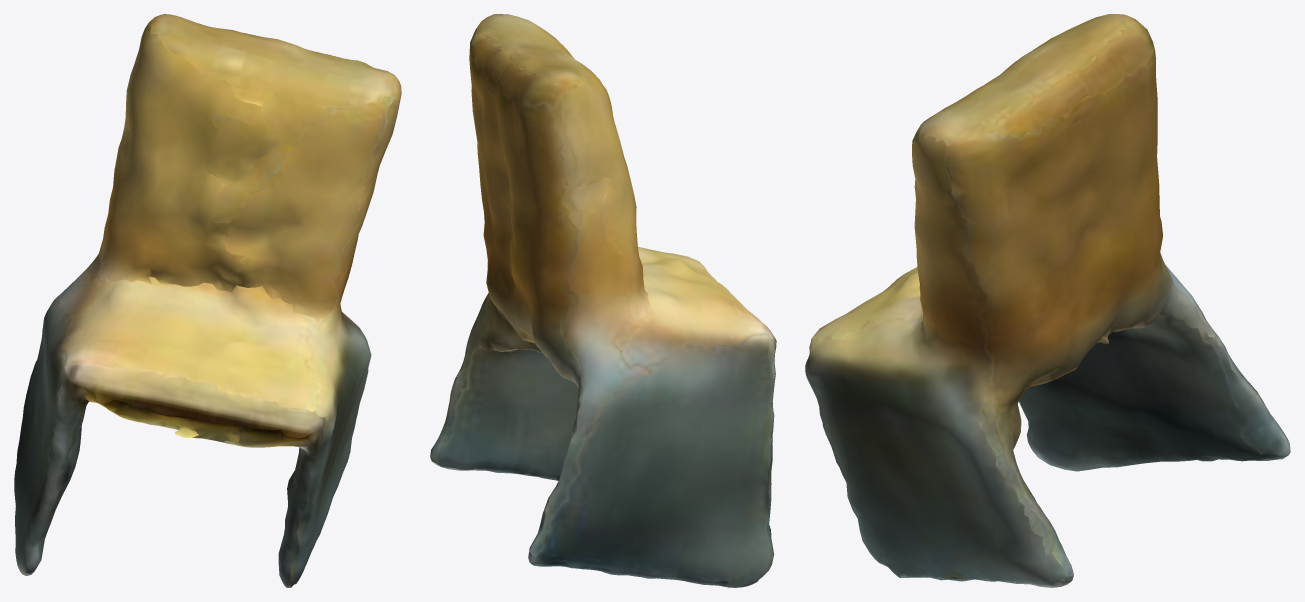
The model's file is 25_chair.glb.
3 renders of one model, left to right at view 1: azimuth 30°, elevation 25°; view 2: azimuth 150°, elevation 25°; view 3: azimuth 270°, elevation 25°, orthographic. The views are drawn at different scales.
Parts seen in each view (by area): view 1: 25_chair; view 2: 25_chair; view 3: 25_chair.
Boxes of the visible parts, <box> form: 25_chair: <box>14,14,401,587</box>; 25_chair: <box>430,14,776,587</box>; 25_chair: <box>805,14,1290,587</box>.
Size of the model in its own units: 0.8447 by 1.2 by 0.97.
Materials: 1 (1 with a texture image).
